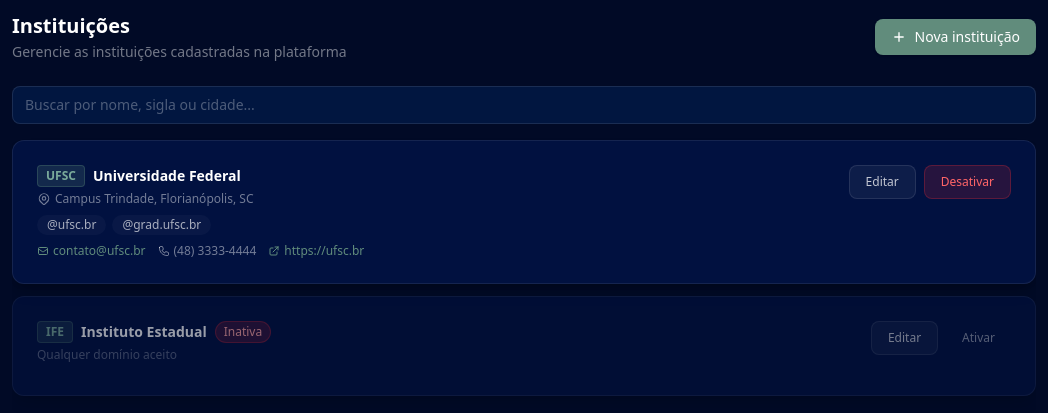
Test: Instituicoes — busca › exibe mensagem quando busca não encontra resultado
The width and height of the screenshot is (1048, 413).
Check: the heading "Universidade Federal" is shown, box [93, 166, 241, 186]
Type "xyzinexistente" into the field with placeholder "Buscar por nome, sigla ou cidade..." at (524, 105), box [12, 86, 1036, 124]
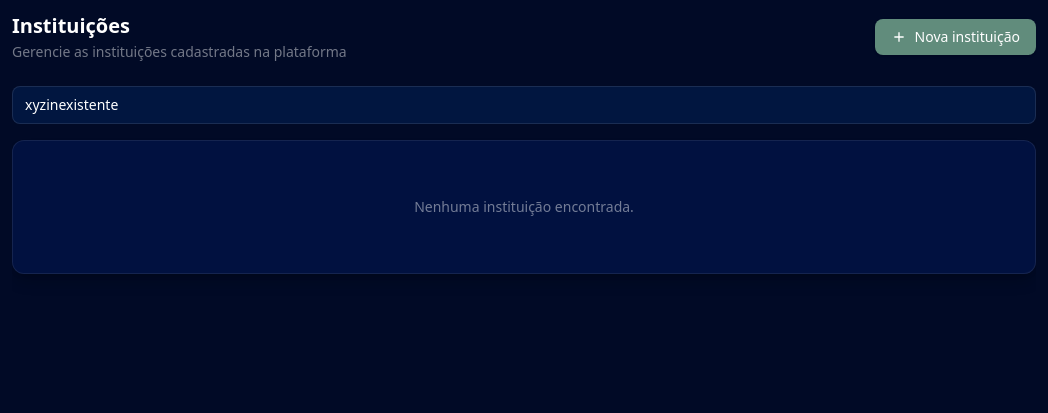
Check: the text "Nenhuma instituição encontrada." is shown, box [414, 197, 634, 216]
